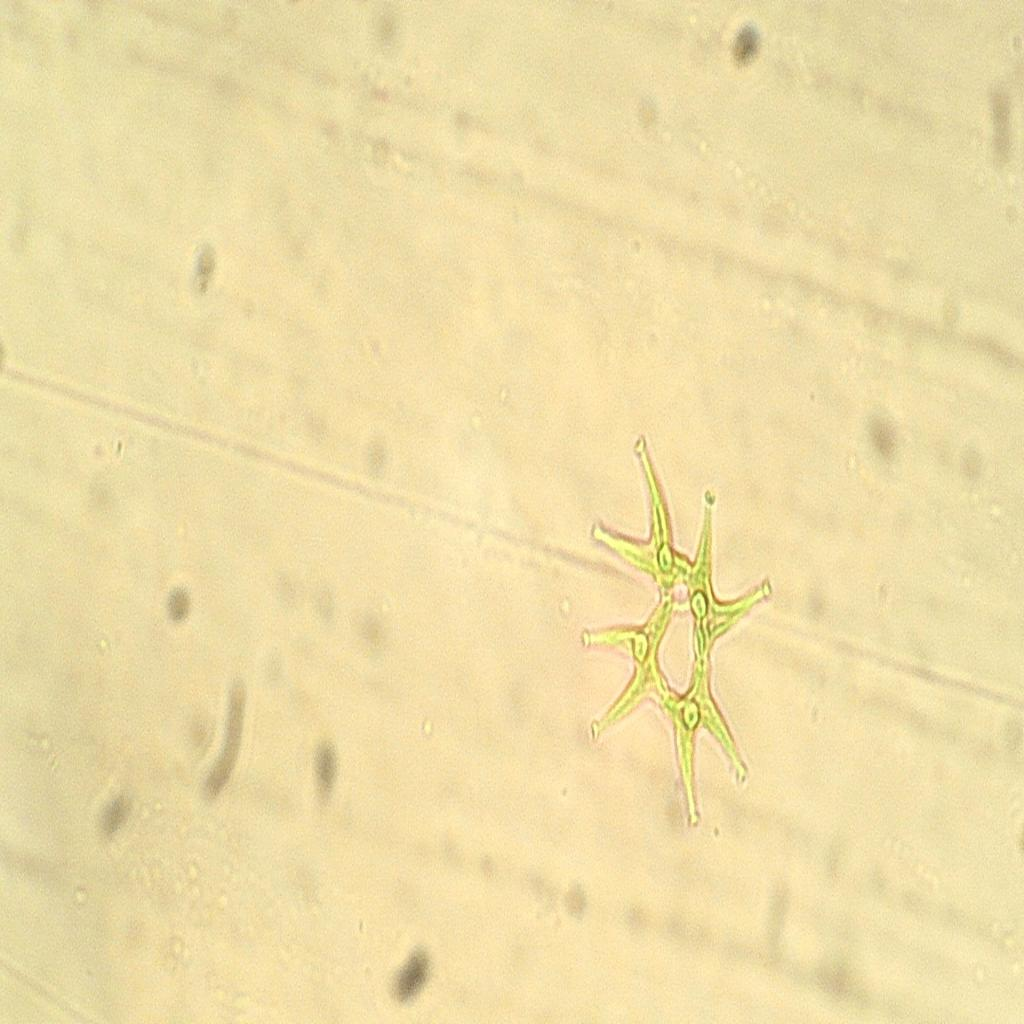Pediastrum_75FO: (578, 418, 785, 849)
